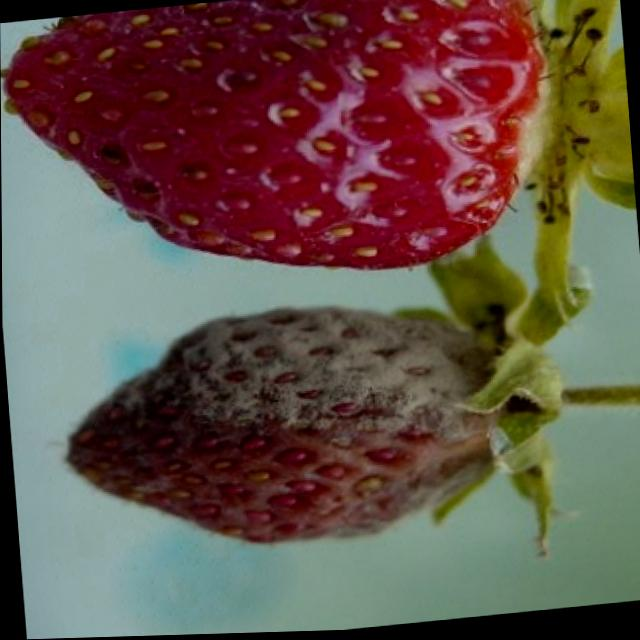Gray Mold: (62, 306, 506, 545)
